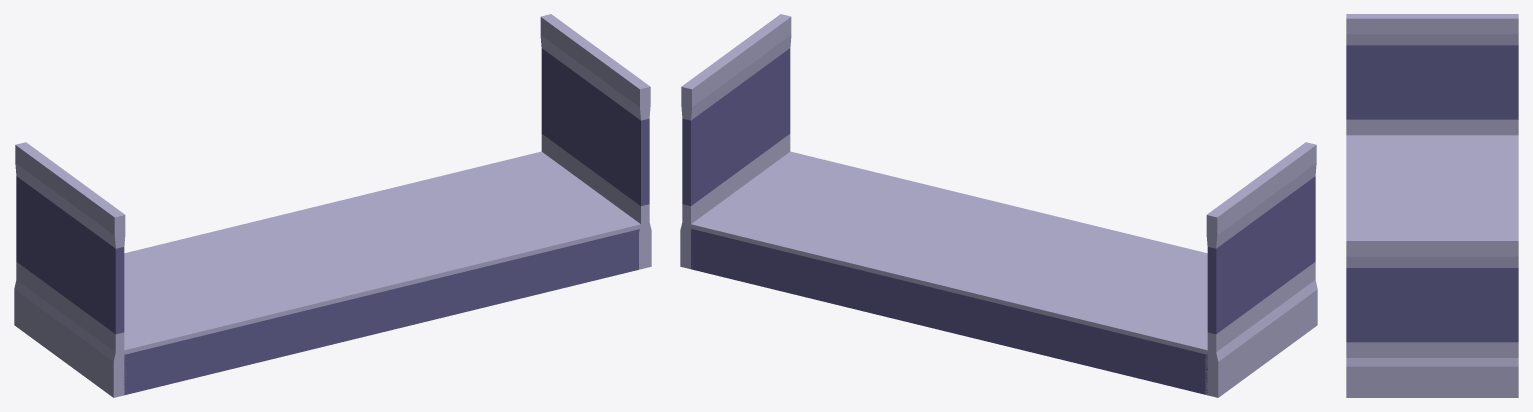
Rendered from MainTile.obj.
The picture shows the model from 3 angles, left to right: view 1: azimuth 30°, elevation 25°; view 2: azimuth 150°, elevation 25°; view 3: azimuth 270°, elevation 25°; orthographic projection. The views are drawn at different scales.
Visible parts, largest first — view 1: mergedBlocks; view 2: mergedBlocks; view 3: mergedBlocks.
Part boxes in pixels (box(x1,y1,x2,y2)): mergedBlocks: box(14, 14, 651, 397); mergedBlocks: box(680, 14, 1317, 397); mergedBlocks: box(1346, 14, 1518, 397).
Bounding box in the file's own units: 12.5 × 4 × 4.
